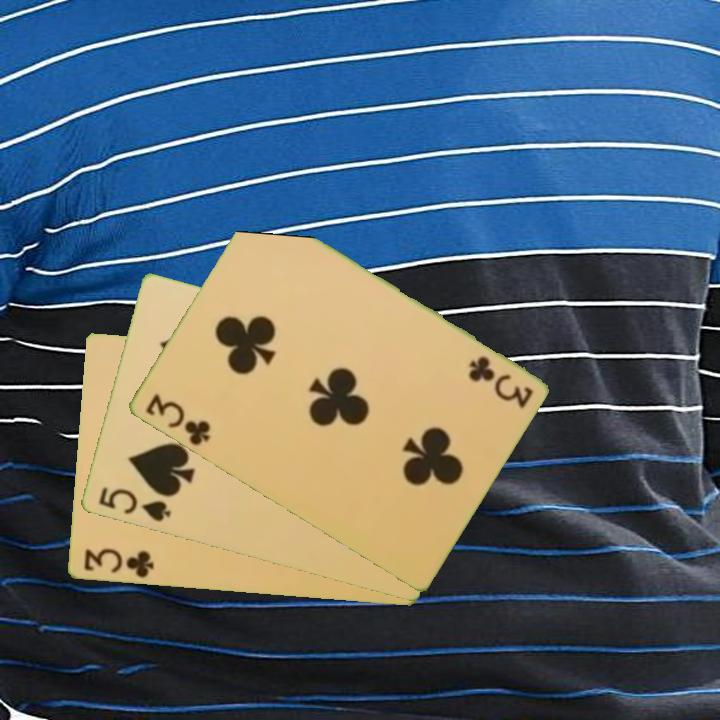3c: (141, 390, 213, 449), (465, 353, 536, 410), (80, 545, 157, 581)
5s: (94, 483, 174, 525)
